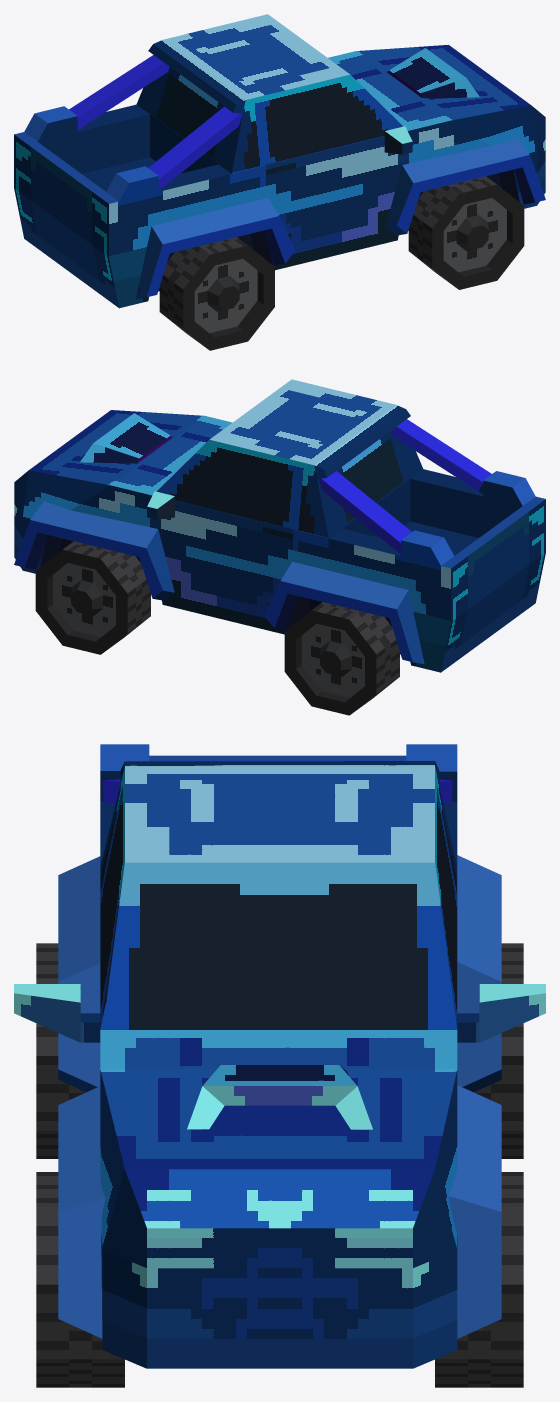
3 renders of one model, top to bottom at view 1: azimuth 30°, elevation 25°; view 2: azimuth 150°, elevation 25°; view 3: azimuth 270°, elevation 25°, orthographic. The views are drawn at different scales.
Parts seen in each view (by area): view 1: body, wheel2, wheel4, cuboid (×4), fender4, fender3; view 2: body, wheel3, wheel1, cuboid (×4), fender2, fender1; view 3: body, cuboid (×3), fender1, fender3, wheel1, wheel2, fender2, fender4, wheel3, wheel4.
Part boxes in pixels (x1,y1,x2,y2): body: [14, 14, 545, 308]; wheel2: [408, 176, 524, 289]; wheel4: [159, 237, 274, 350]; cuboid (×4): [69, 48, 479, 190]; fender4: [135, 198, 295, 299]; fender3: [385, 138, 545, 235]; body: [14, 379, 545, 672]; wheel3: [284, 602, 399, 715]; wheel1: [35, 541, 150, 654]; cuboid (×4): [80, 413, 491, 553]; fender2: [264, 561, 424, 664]; fender1: [14, 501, 174, 600]; body: [100, 744, 457, 1368]; cuboid (×3): [14, 984, 545, 1129]; fender1: [448, 1085, 501, 1338]; fender3: [58, 1086, 105, 1338]; wheel1: [435, 1172, 523, 1387]; wheel2: [36, 1172, 124, 1387]; fender2: [457, 855, 501, 1092]; fender4: [58, 856, 100, 1092]; wheel3: [474, 943, 523, 1158]; wheel4: [36, 943, 85, 1158].
Bounding box in the file's own units: 2.75 × 1.28 × 1.5.
1 material, 1 textured.
